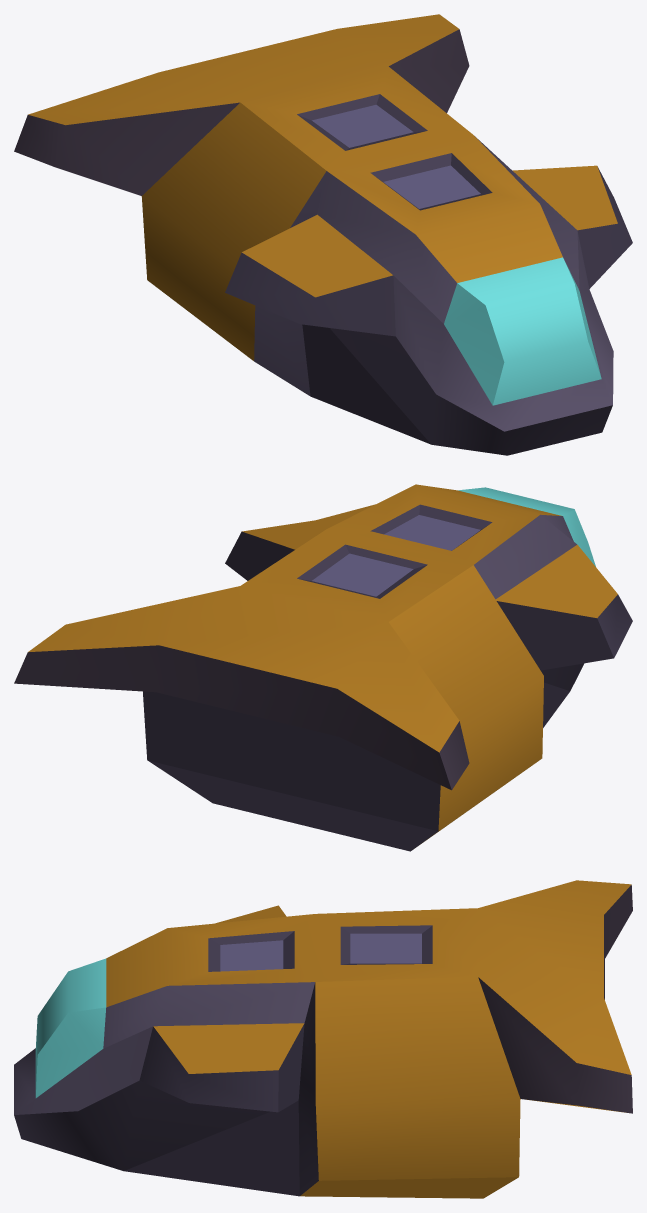
File: ShipCargo.fbx
3 views of the same model, one above another, from view 1: azimuth 30°, elevation 25°; view 2: azimuth 150°, elevation 25°; view 3: azimuth 270°, elevation 25° (orthographic). The views are drawn at different scales.
Visible parts, largest first — view 1: ShipCargo; view 2: ShipCargo; view 3: ShipCargo.
Boxes of the visible parts, x1,y1,x2,y2 form: ShipCargo: (14, 14, 632, 455); ShipCargo: (14, 484, 632, 851); ShipCargo: (14, 880, 632, 1198).
Bounding box in the file's own units: 254 × 123 × 327.
